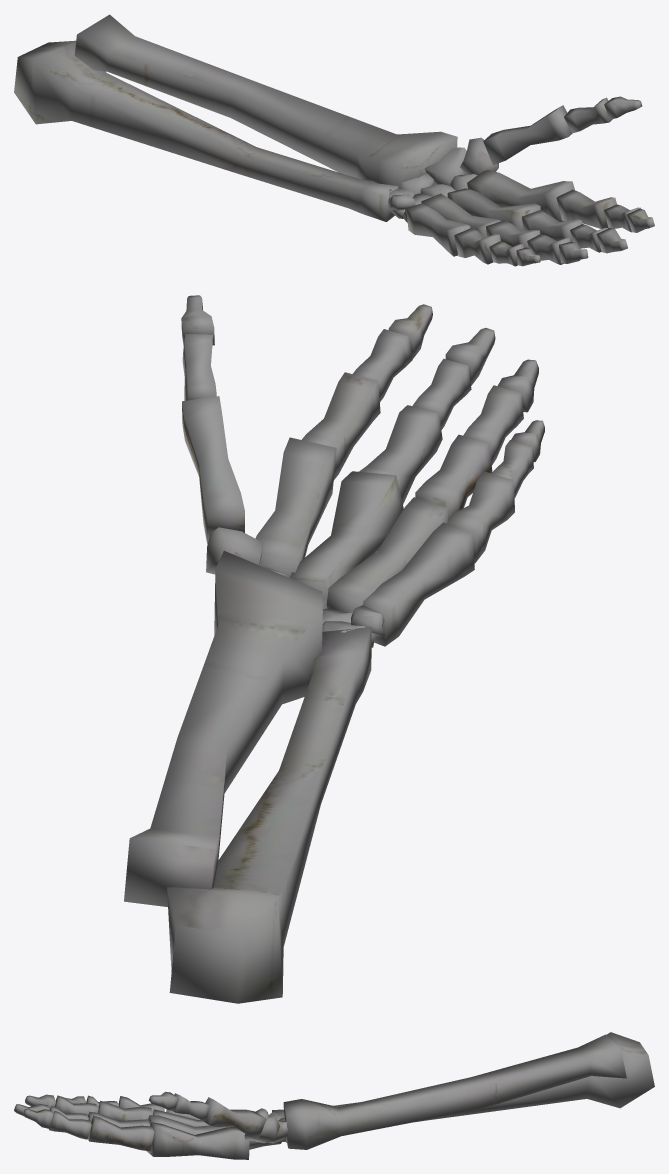
The model's file is Dungeon_Arm.glb.
3 renders of one model, top to bottom at view 1: azimuth 30°, elevation 25°; view 2: azimuth 150°, elevation 25°; view 3: azimuth 270°, elevation 25°, orthographic. The views are drawn at different scales.
Parts seen in each view (by area): view 1: Dungeon_Arm; view 2: Dungeon_Arm; view 3: Dungeon_Arm.
Boxes of the visible parts, box(x1,y1,x2,y2) form: Dungeon_Arm: box(14, 14, 654, 266); Dungeon_Arm: box(124, 295, 544, 1003); Dungeon_Arm: box(14, 1032, 654, 1159).
Bounding box in the file's own units: 0.3249 × 0.1361 × 0.6584.
1 material, 1 textured.
